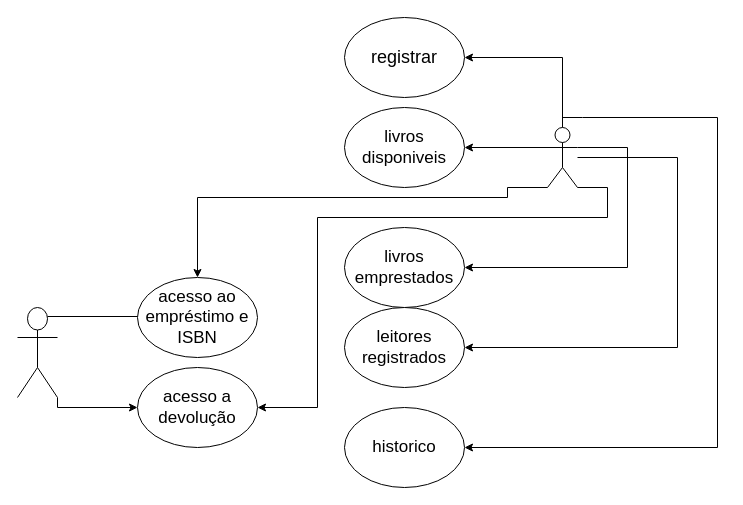
The diagram is 743 pixels wide and 505 high, and some of its shapes have lost their labels. Here are the shapes that lost their labels. From the top down, the centre of each, then its label:
the point at 562,157: bibliotecario
the point at 37,352: leitor
